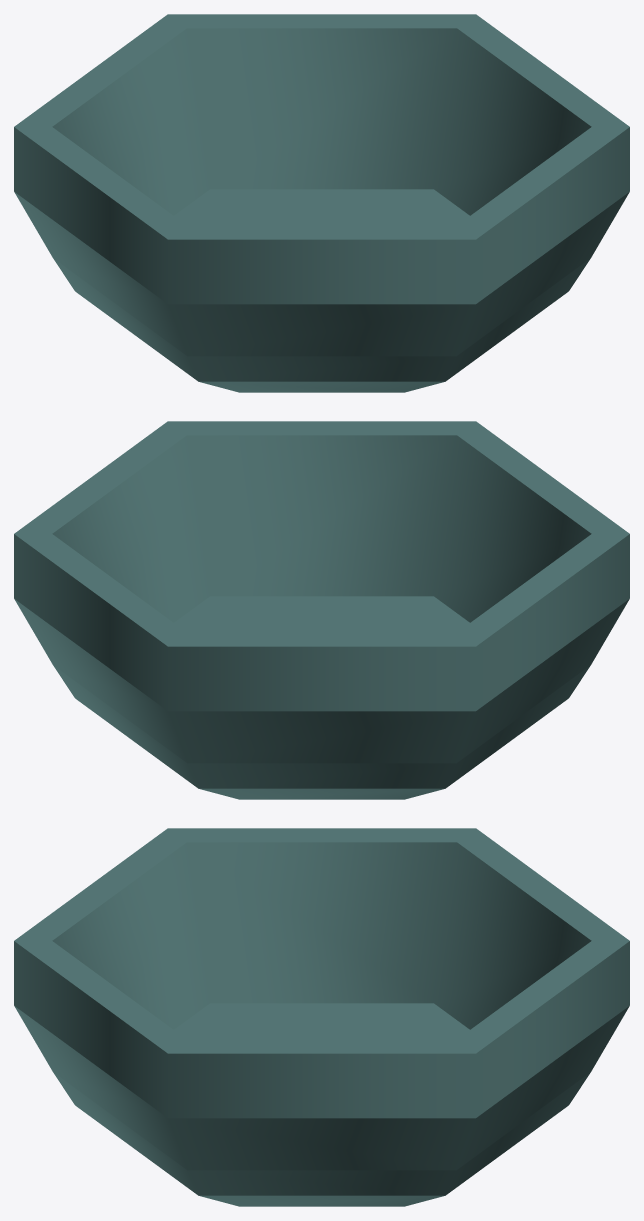
File: bowl.gltf
3 renders of one model, top to bottom at view 1: azimuth 30°, elevation 25°; view 2: azimuth 150°, elevation 25°; view 3: azimuth 270°, elevation 25°, orthographic.
Parts seen in each view (by area): view 1: bowl; view 2: bowl; view 3: bowl.
Boxes of the visible parts, box(x1,y1,x2,y2) form: bowl: box(14, 14, 629, 392); bowl: box(14, 421, 629, 799); bowl: box(14, 828, 629, 1206).
Bounding box in the file's own units: 0.5022 × 0.2138 × 0.5798.
